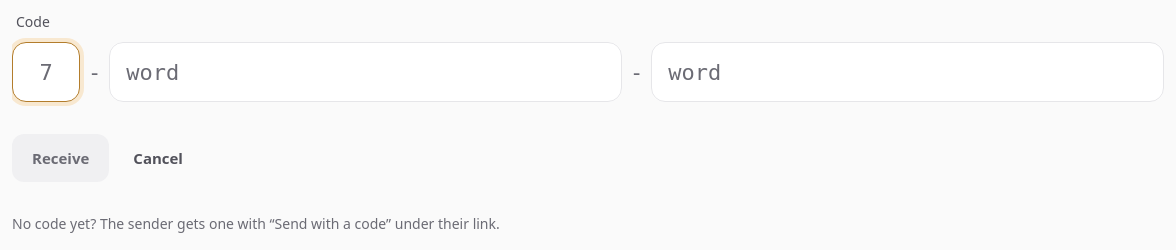
Test case: EnterCode › aborts a running transfer when it goes away
Type "7-acid-rocket" into the field named "Number".
click(46, 72); type("7-acid-rocket")  # box [12,42,80,102]
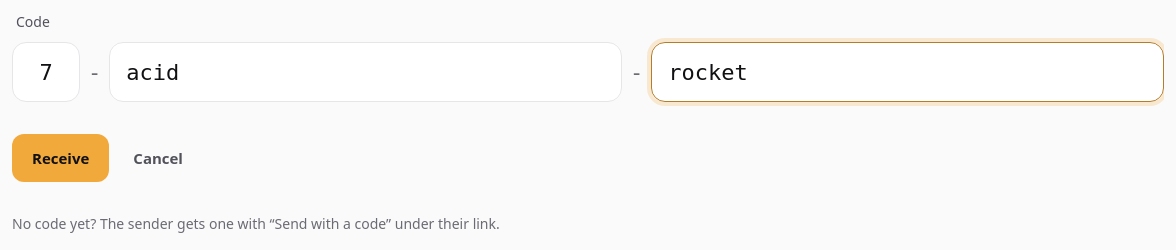
Click the button "Receive".
click(61, 158)  # box [12,134,109,182]
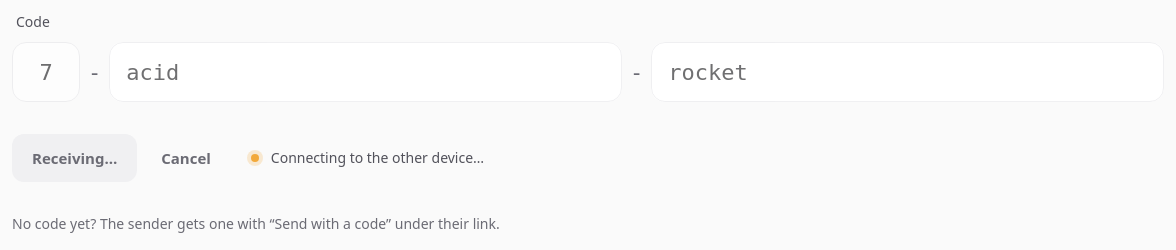
Expected: the text "Connecting to the other device…" is shown, [251,148,484,168]
